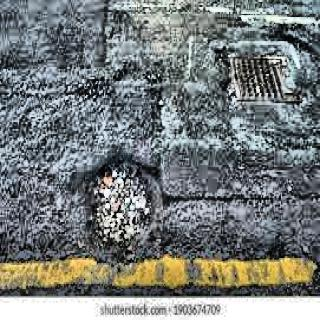pothole: (68, 139, 173, 259)
